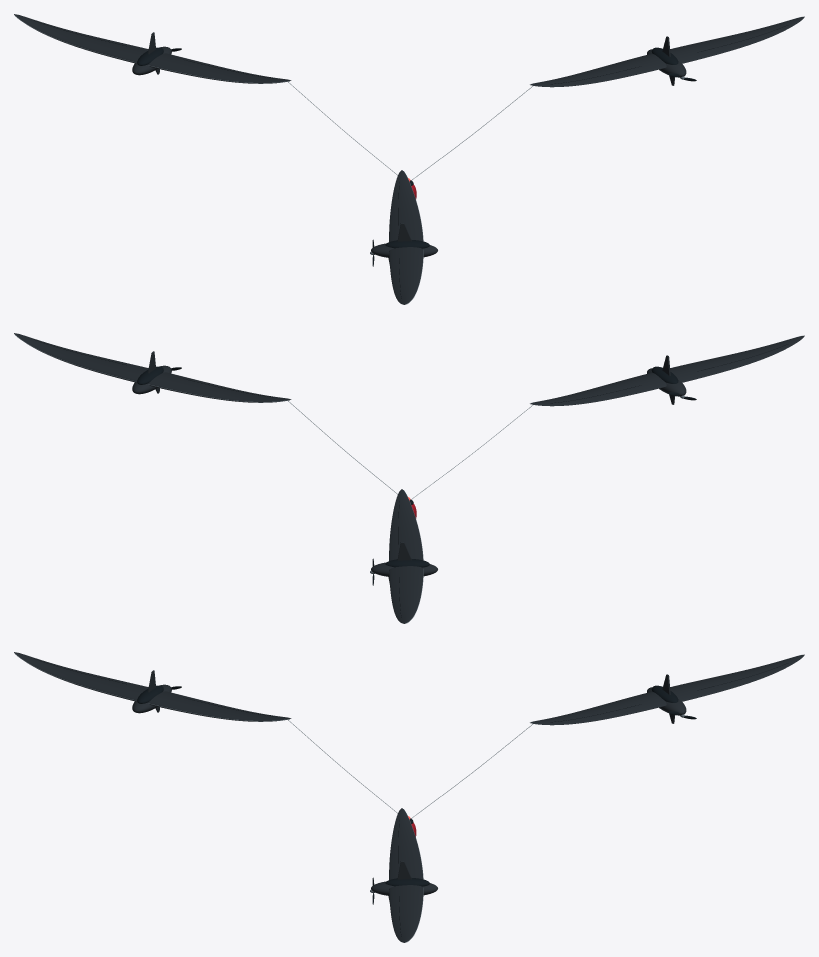
File: x721-three-wing-concept.glb
The picture shows the model from 3 angles, top to bottom: view 1: azimuth 30°, elevation 25°; view 2: azimuth 150°, elevation 25°; view 3: azimuth 270°, elevation 25°; orthographic projection.
Visible parts, largest first — view 1: wing_1_shell, wing_2_shell, wing_3_shell; view 2: wing_3_shell, wing_1_shell, wing_2_shell; view 3: wing_2_shell, wing_3_shell, wing_1_shell.
Boxes of the visible parts, x1,y1,x2,y2 form: wing_1_shell: (530, 16, 804, 87); wing_2_shell: (14, 14, 291, 83); wing_3_shell: (389, 170, 423, 304); wing_3_shell: (530, 335, 804, 406); wing_1_shell: (14, 333, 291, 402); wing_2_shell: (389, 489, 423, 623); wing_2_shell: (530, 654, 804, 725); wing_3_shell: (14, 652, 291, 721); wing_1_shell: (389, 808, 423, 942).
Size of the model in its own units: 4.75 by 0.841 by 5.46.
